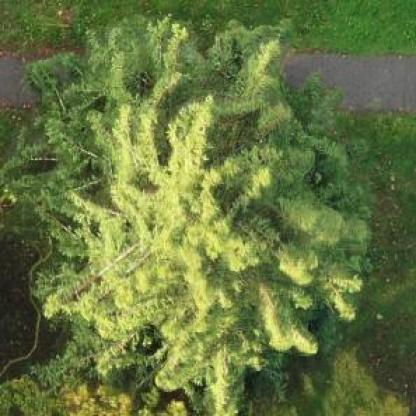Coniferous Tree: (0, 18, 368, 401)
